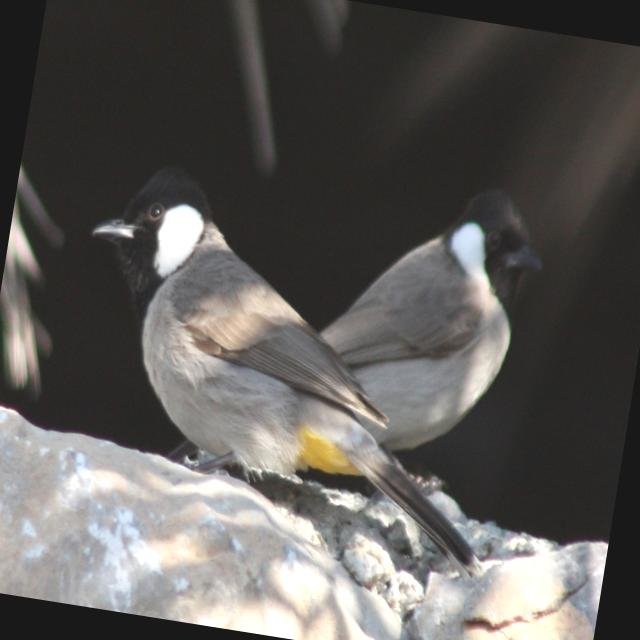bird: (46, 145, 542, 592), (238, 164, 556, 498)
